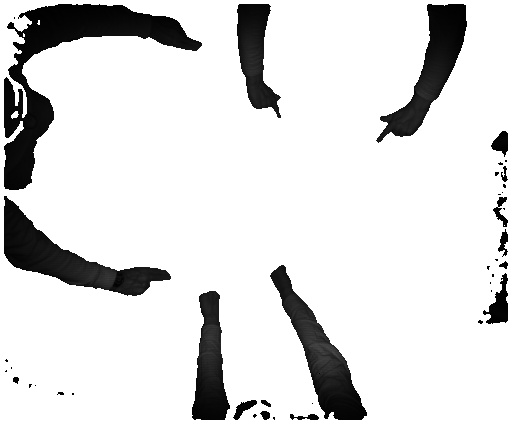fist: (192, 288, 223, 323), (264, 264, 296, 294)
hand: (151, 16, 207, 55), (376, 105, 424, 143), (118, 264, 175, 295), (245, 80, 287, 119)
